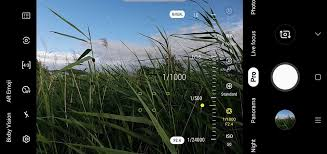camera: (268, 63, 301, 92)
